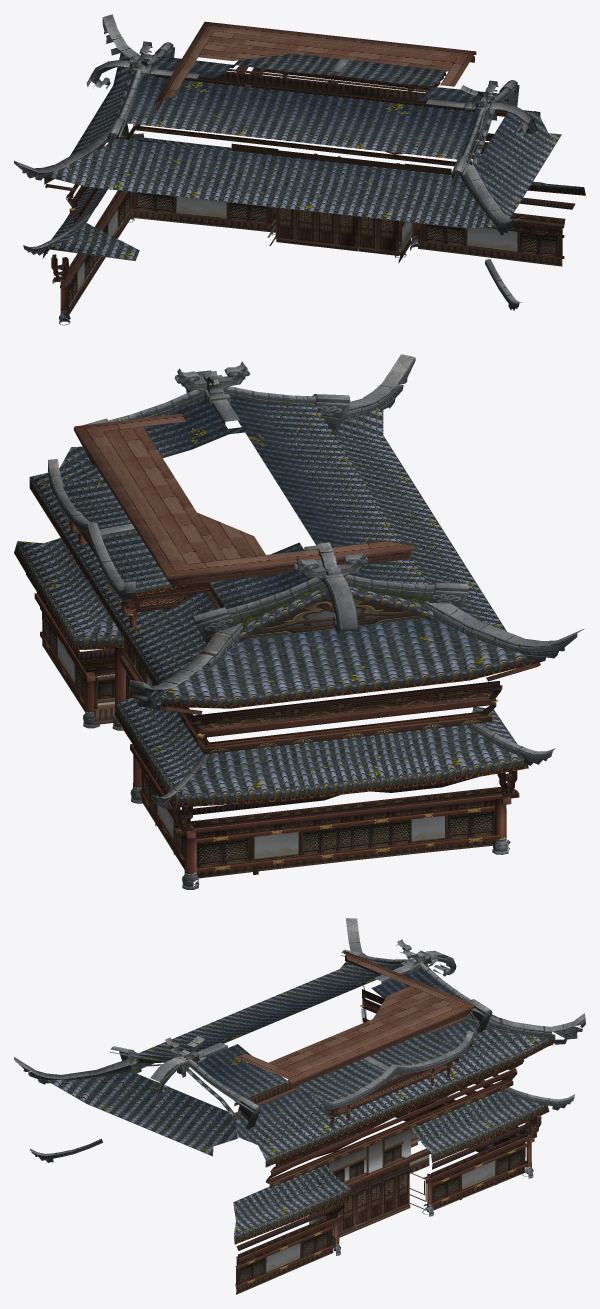
Rendered from S2_Build_XSC080_2_H1.FBX.
3 views of the same model, one above another, from view 1: azimuth 30°, elevation 25°; view 2: azimuth 150°, elevation 25°; view 3: azimuth 270°, elevation 25° (orthographic). The views are drawn at different scales.
Visible parts, largest first — view 1: S2_Build_XSC080_2_H1; view 2: S2_Build_XSC080_2_H1; view 3: S2_Build_XSC080_2_H1.
Boxes of the visible parts, x1,y1,x2,y2 form: S2_Build_XSC080_2_H1: (14, 14, 585, 325); S2_Build_XSC080_2_H1: (14, 354, 584, 889); S2_Build_XSC080_2_H1: (14, 918, 585, 1294).
Size of the model in its own units: 19460 by 8364 by 20791.
